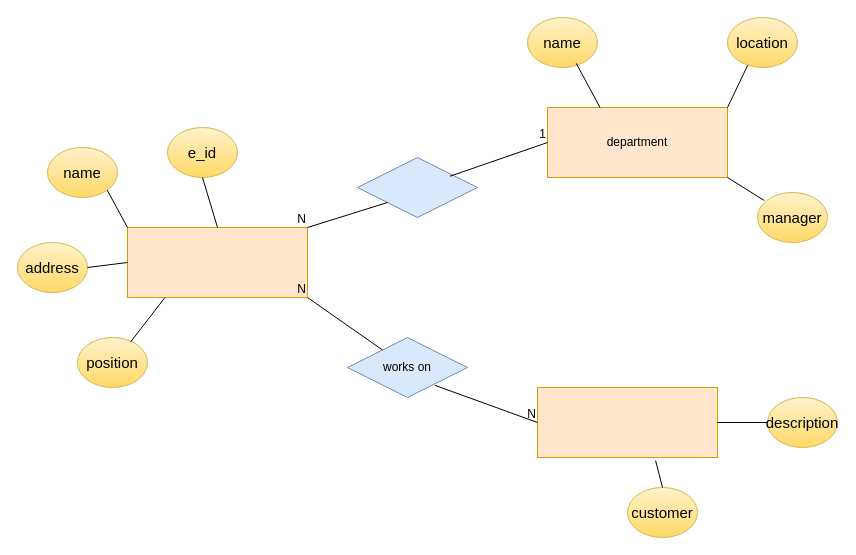
Image size: 856x555. Some labels were removed from this diagram. Each missing label, with the box of its shape:
employee: (126, 226, 308, 298)
is in: (356, 156, 478, 218)
project: (536, 386, 718, 458)
